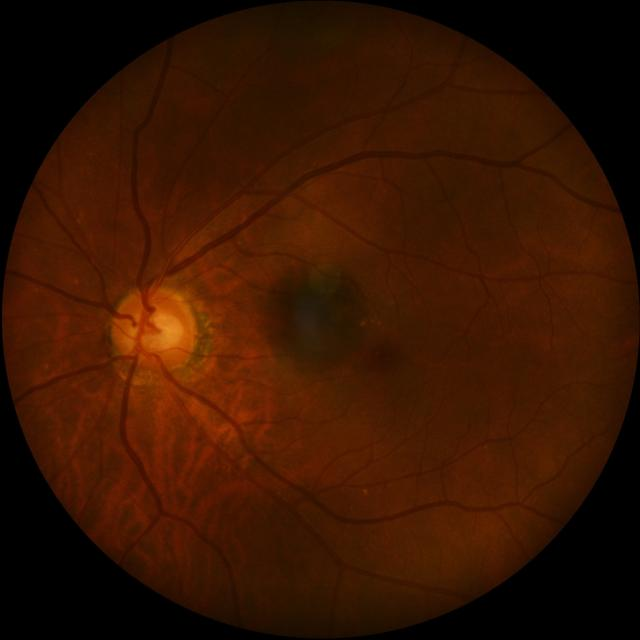OC: (131, 310, 183, 352)
OD: (109, 284, 196, 370)
